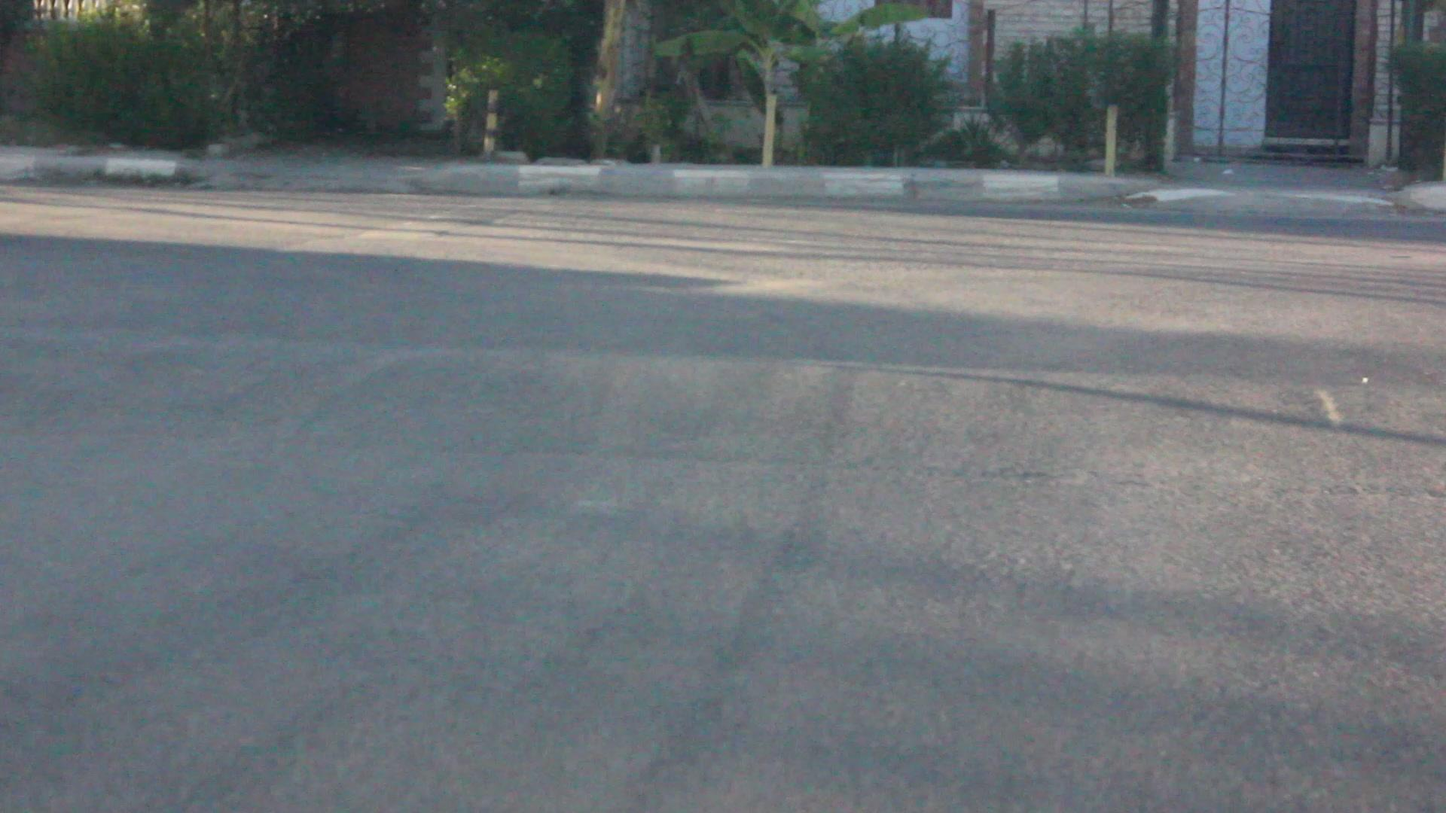Bump: (0, 327, 1446, 518)
